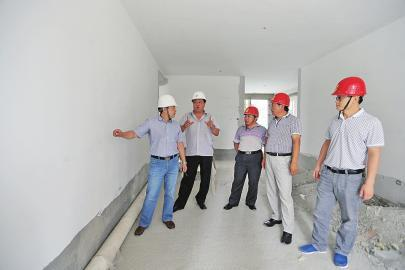boots: (298, 243, 328, 254), (333, 252, 348, 268), (194, 196, 206, 208), (280, 231, 291, 244), (264, 217, 281, 225), (162, 220, 175, 228), (133, 226, 144, 235), (223, 203, 237, 210), (173, 203, 184, 211), (196, 200, 206, 208), (246, 203, 255, 210)
hard-hat: (331, 76, 365, 96), (271, 92, 290, 106), (157, 95, 177, 107), (192, 90, 207, 101), (243, 107, 258, 117)
person: (296, 76, 384, 269), (111, 93, 187, 235), (261, 93, 301, 243), (172, 90, 220, 211), (223, 105, 268, 209)
